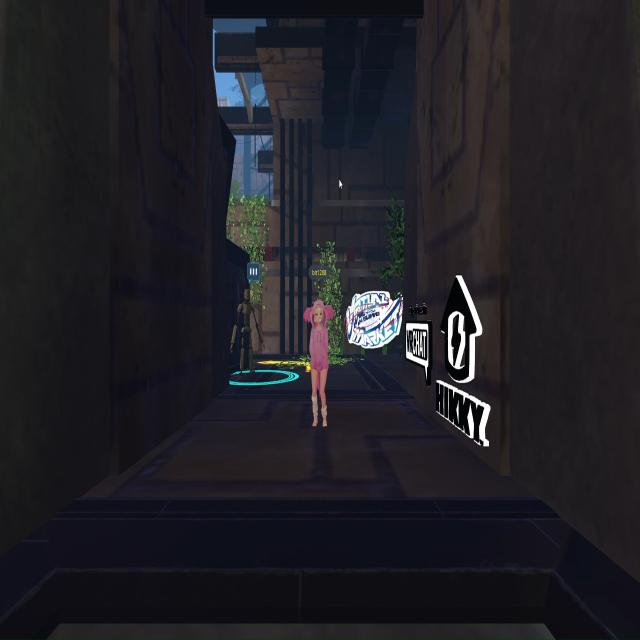human: (300, 290, 338, 442)
